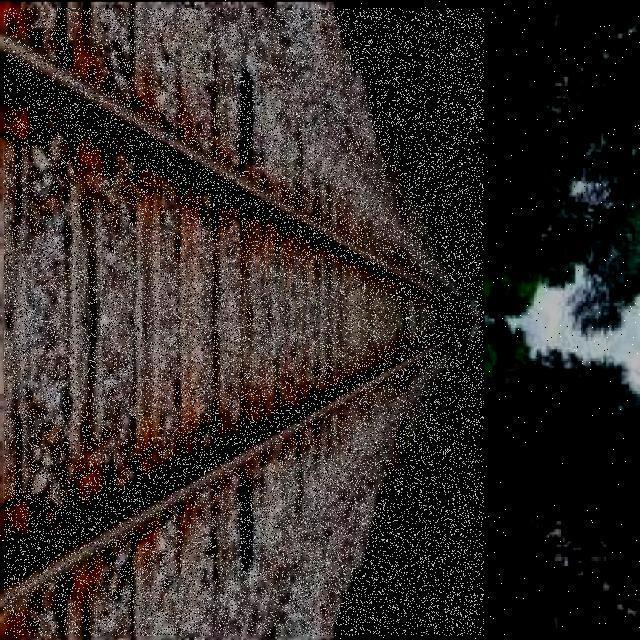rail: (4, 9, 484, 636)
